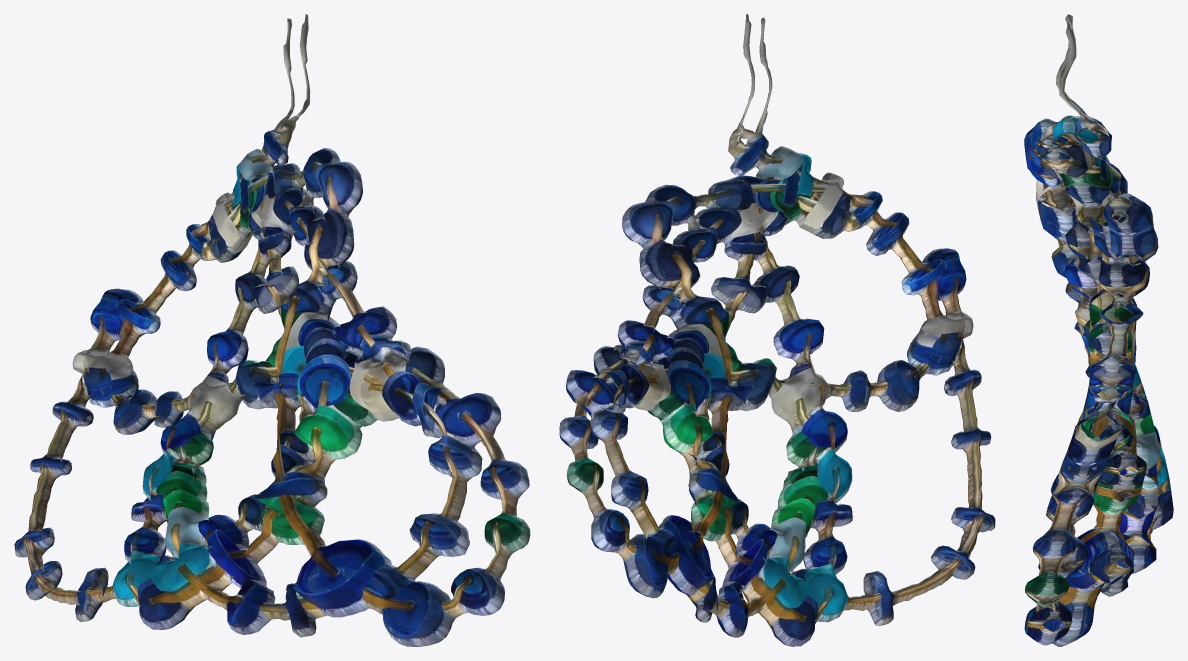
The model's file is hy3d-mov-024.glb.
3 views of the same model, side by side, from view 1: azimuth 30°, elevation 25°; view 2: azimuth 150°, elevation 25°; view 3: azimuth 270°, elevation 25° (orthographic). The views are drawn at different scales.
Visible parts, largest first — view 1: world; view 2: world; view 3: world.
Boxes of the visible parts, x1=… form: world: x1=14, y1=14, x2=530, y2=646; world: x1=559, y1=14, x2=995, y2=646; world: x1=1024, y1=14, x2=1173, y2=646.
Size of the model in its own units: 1.68 by 2.15 by 0.5055.
Materials: 1 (1 with a texture image).
